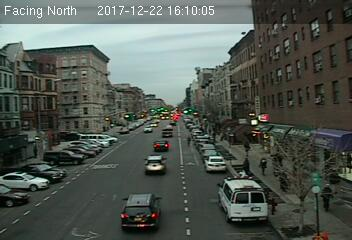car: (118, 192, 164, 232), (144, 154, 167, 176), (203, 155, 227, 172), (153, 140, 168, 151)
pedestrian: (257, 155, 267, 176)
police: (217, 174, 269, 226)
